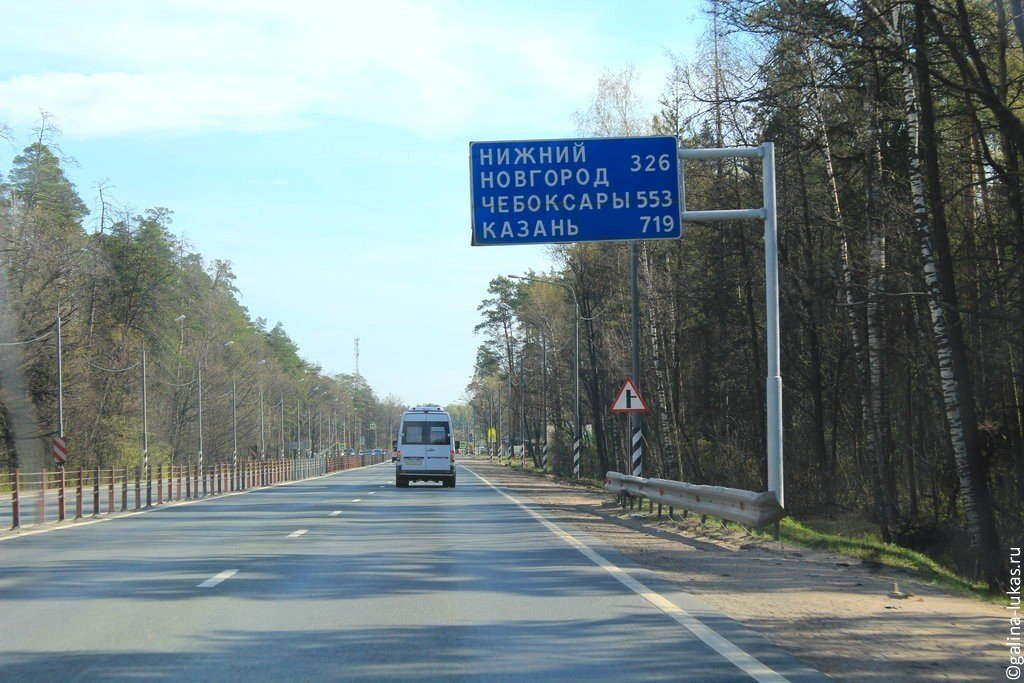sign: (607, 376, 653, 416), (338, 442, 347, 451), (459, 440, 467, 448), (369, 422, 376, 430)
